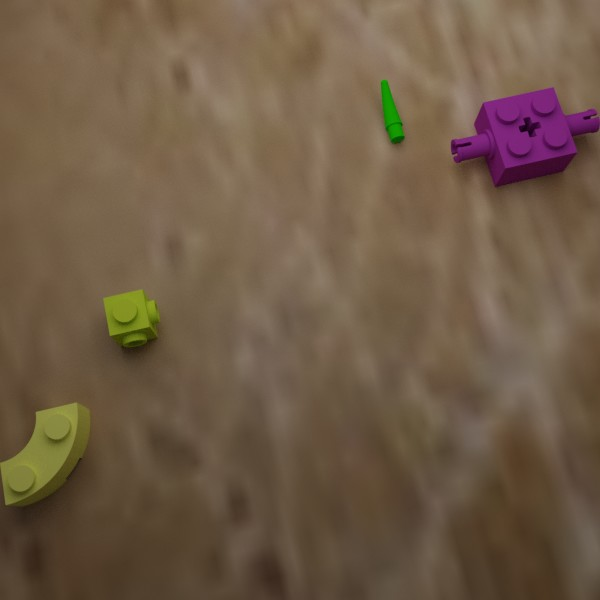lego: (450, 87, 599, 187), (0, 402, 90, 506), (103, 289, 160, 347), (380, 79, 404, 143)
